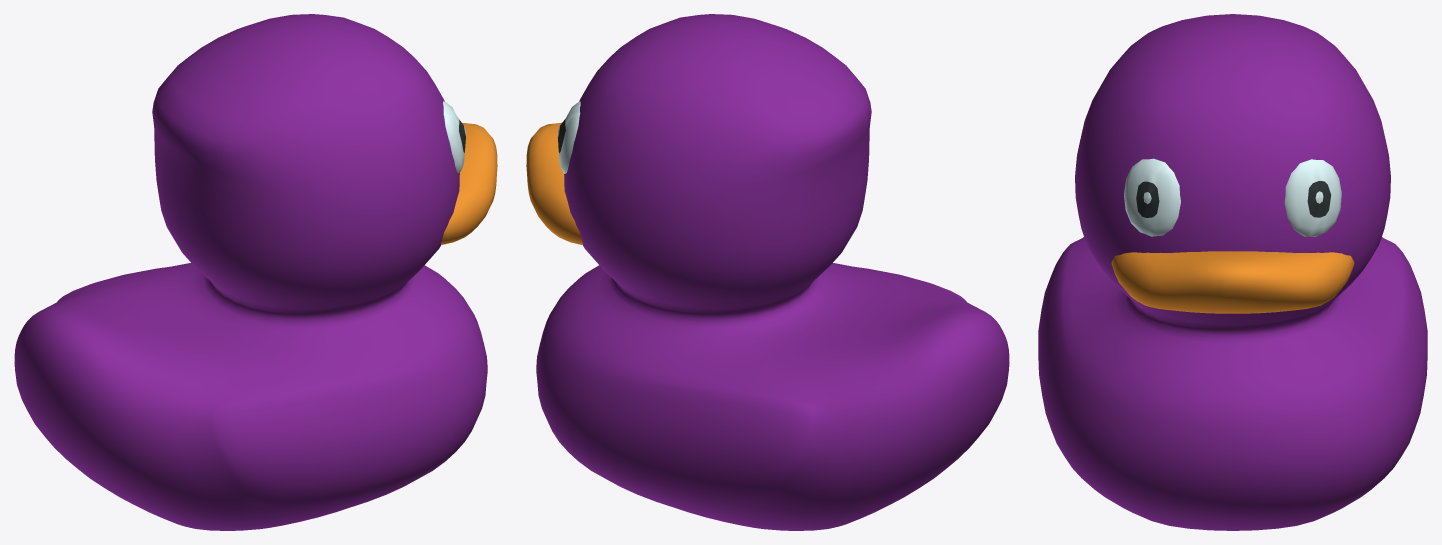
Rendered from Rubber Ducky Dark Purple.fbx.
3 views of the same model, side by side, from view 1: azimuth 30°, elevation 25°; view 2: azimuth 150°, elevation 25°; view 3: azimuth 270°, elevation 25° (orthographic). The views are drawn at different scales.
Parts seen in each view (by area): view 1: Rubber_Duck; view 2: Rubber_Duck; view 3: Rubber_Duck.
Part boxes in pixels (<box>): Rubber_Duck: <box>14,14,497,530</box>; Rubber_Duck: <box>526,14,1009,530</box>; Rubber_Duck: <box>1038,14,1427,530</box>.
Bounding box in the file's own units: 8.53 × 8.27 × 6.1.
1 material, 1 textured.
